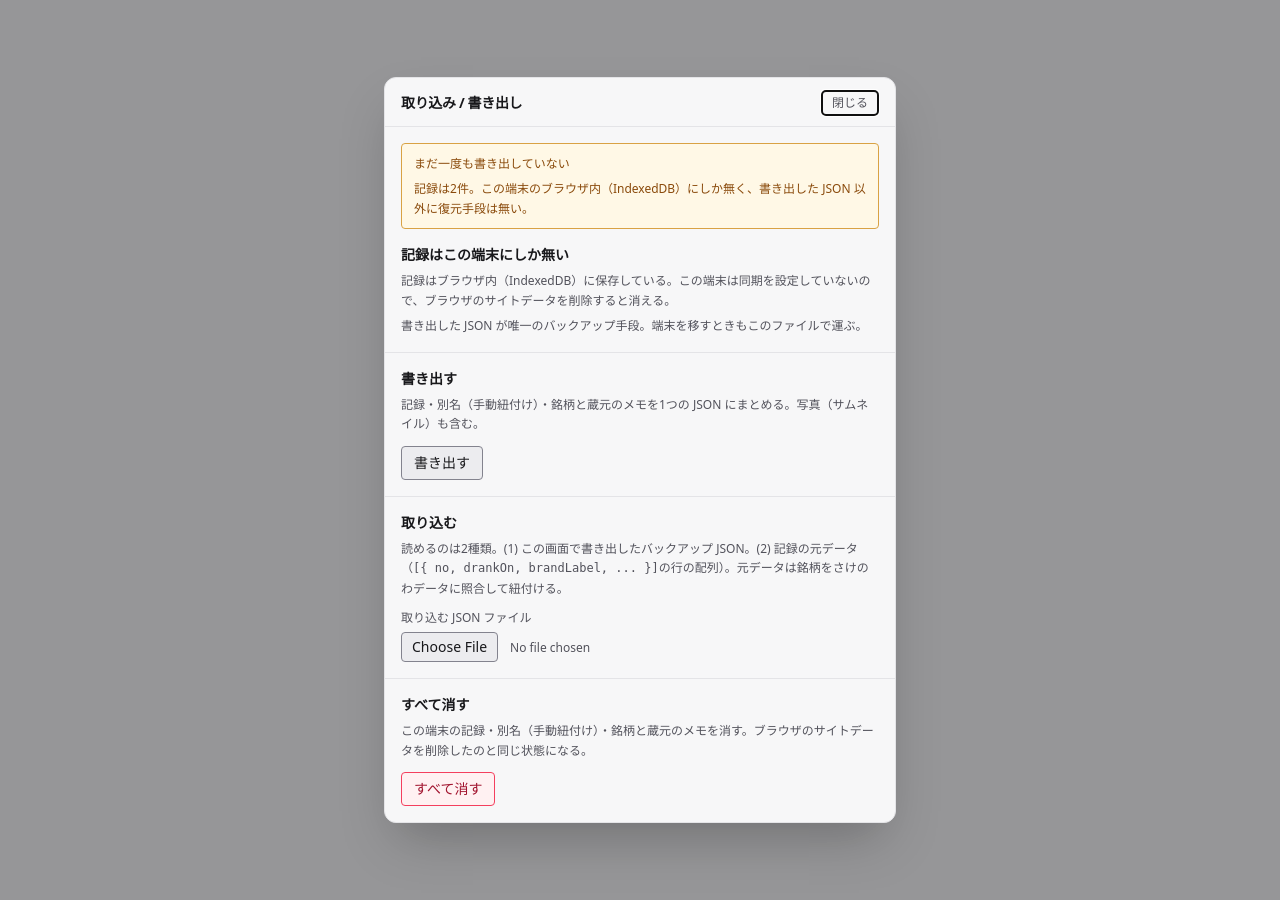
Test: ImportExportPanel との配線 › 全消去のあとは督促を出さない(消えた記録の件数を言い続けない)
Expected: the text "まだ一度も書き出していない" is shown, [414,155,570,172]
Click the button "すべて消す".
click(448, 789)  # box [401,772,496,806]
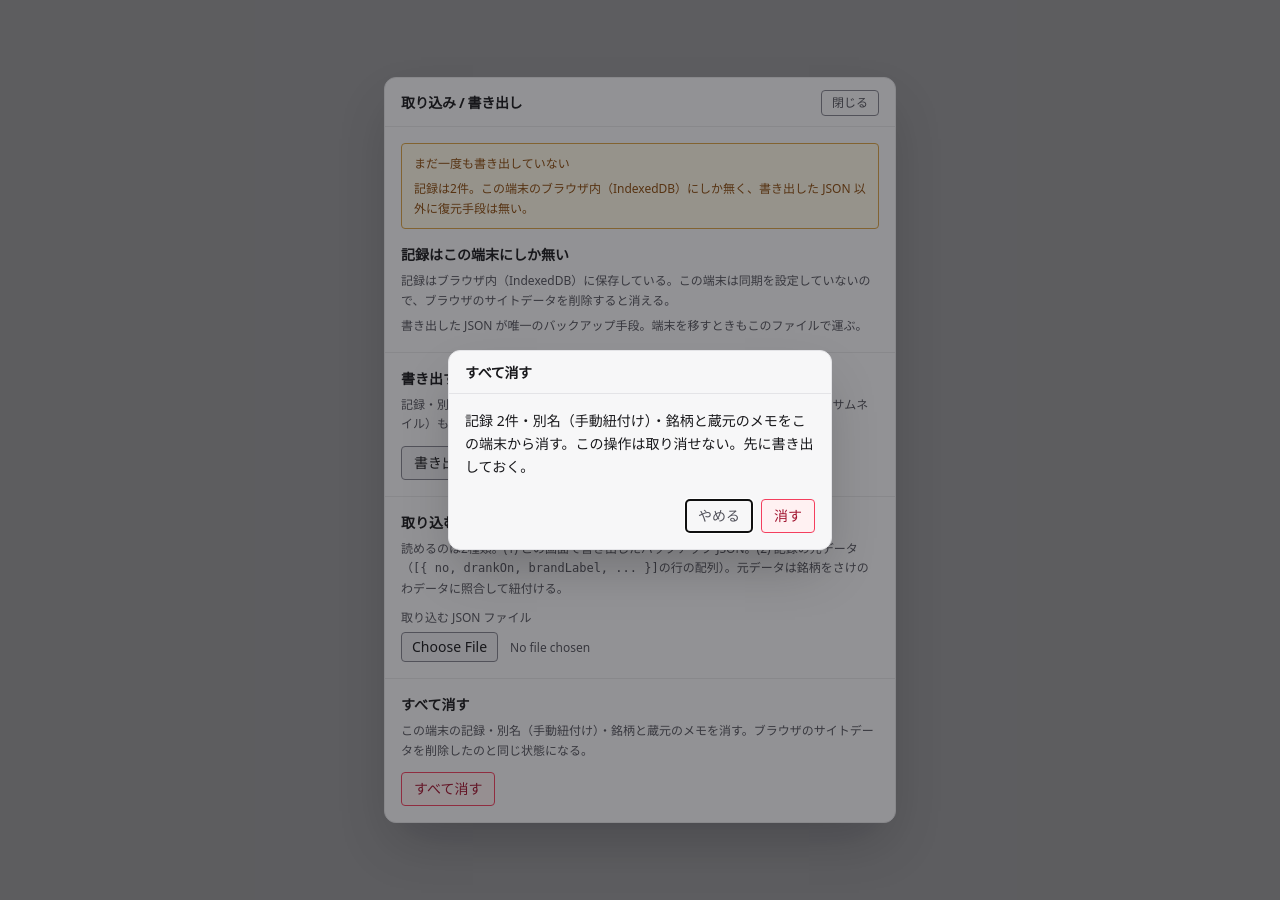
Click the button "消す".
click(788, 516)  # box [761,499,815,533]
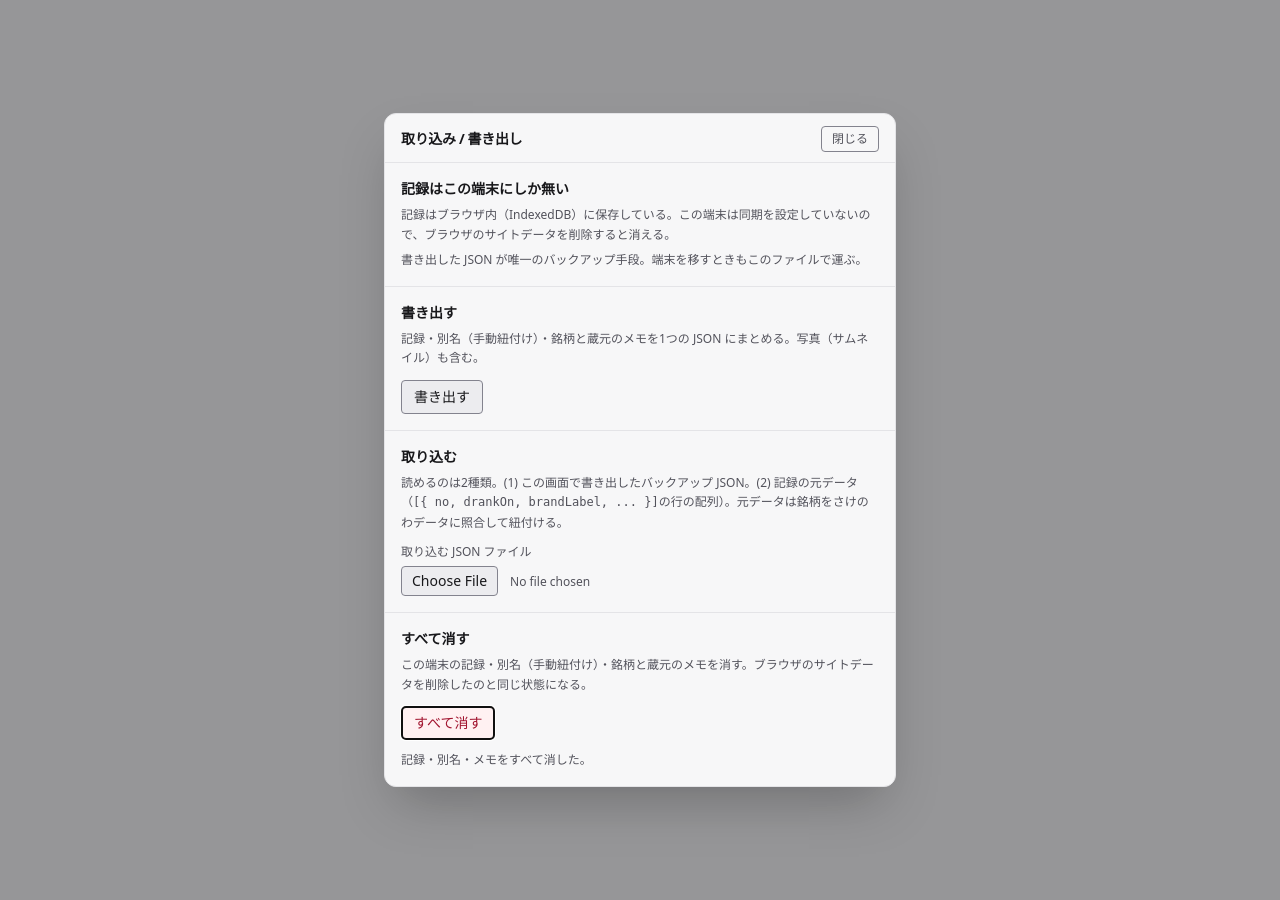
Expected: the text "記録・別名・メモをすべて消した。" is shown, [401,751,592,768]
Expected: the text "まだ一度も書き出していない" is gone
